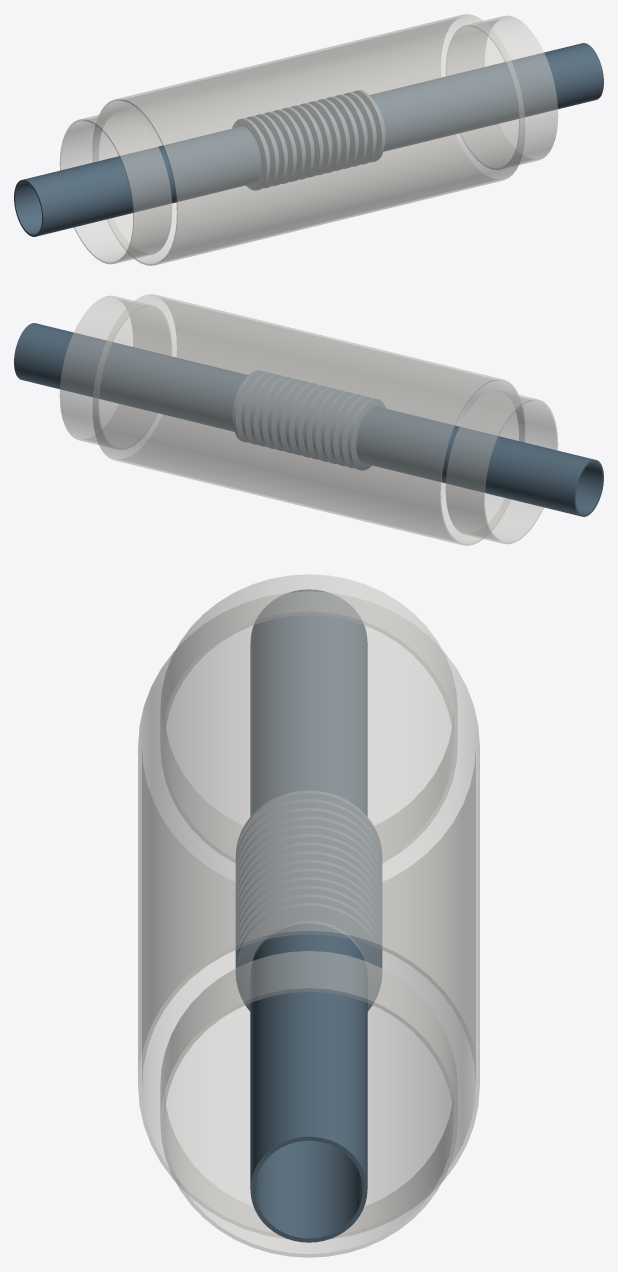
The model's file is ppu-dn80-L985-D89-k-o260.glb.
The picture shows the model from 3 angles, top to bottom: view 1: azimuth 30°, elevation 25°; view 2: azimuth 150°, elevation 25°; view 3: azimuth 270°, elevation 25°; orthographic projection. The views are drawn at different scales.
Visible parts, largest first — view 1: uslovno_kozhuh_ppu, patrubok_1, patrubok_2, prokladka_silfon_1, uslovno_obolochka_l, uslovno_obolochka_r; view 2: uslovno_kozhuh_ppu, patrubok_1, patrubok_2, prokladka_silfon_1, uslovno_obolochka_l, uslovno_obolochka_r; view 3: uslovno_kozhuh_ppu, patrubok_2, patrubok_1, uslovno_obolochka_r, prokladka_silfon_1, uslovno_obolochka_l.
Part boxes in pixels (x1,y1,x2,y2): uslovno_kozhuh_ppu: (92,14,525,265); patrubok_1: (14,126,261,236); patrubok_2: (369,43,603,151); prokladka_silfon_1: (232,90,385,190); uslovno_obolochka_l: (59,110,172,264); uslovno_obolochka_r: (446,15,558,169); uslovno_kozhuh_ppu: (92,294,525,545); patrubok_1: (356,406,603,516); patrubok_2: (14,323,248,431); prokladka_silfon_1: (232,370,385,470); uslovno_obolochka_l: (445,390,558,544); uslovno_obolochka_r: (59,295,171,449); uslovno_kozhuh_ppu: (138,591,479,1238); patrubok_2: (250,923,367,1242); patrubok_1: (250,589,367,816); uslovno_obolochka_r: (160,951,457,1257); prokladka_silfon_1: (235,790,382,1011); uslovno_obolochka_l: (160,574,457,862).
Bounding box in the file's own units: 985 × 260 × 260.
